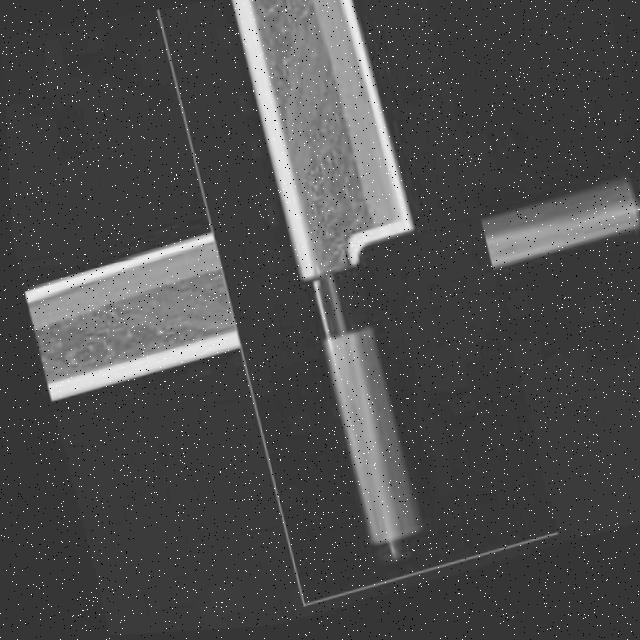knife: (68, 0, 624, 549)
